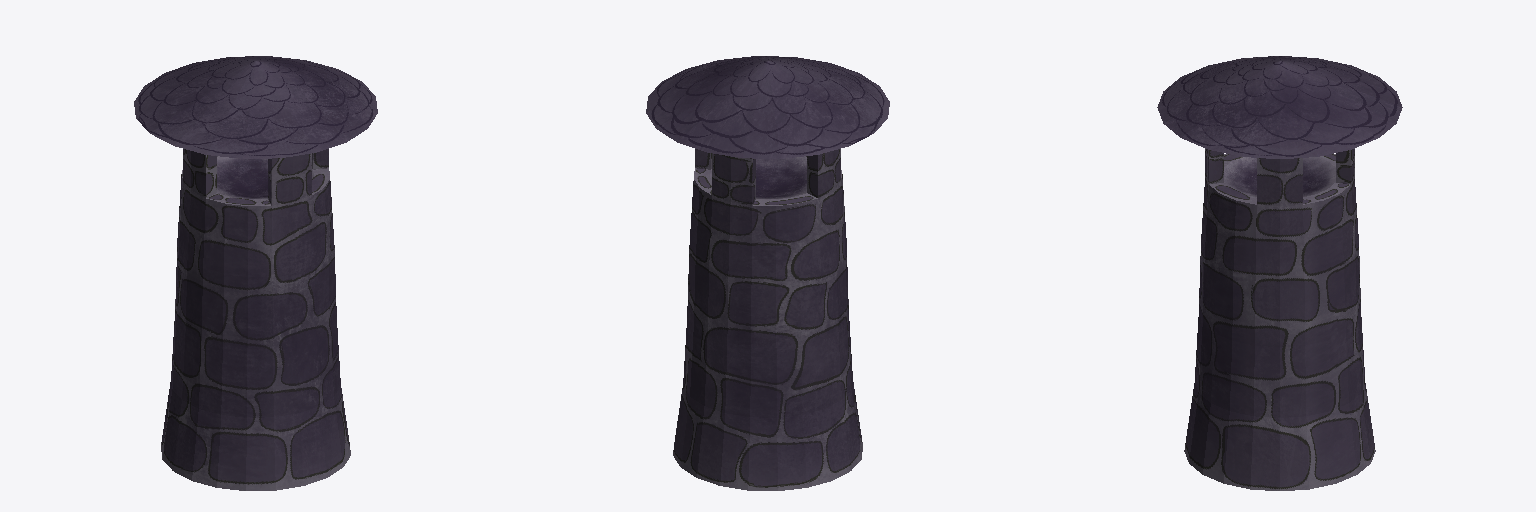
3 renders of one model, left to right at view 1: azimuth 30°, elevation 25°; view 2: azimuth 150°, elevation 25°; view 3: azimuth 270°, elevation 25°, orthographic.
Visible parts, largest first — view 1: ManaLampHat_initialShadingGroup_1, ManaLampHat_initialShadingGroup; view 2: ManaLampHat_initialShadingGroup_1, ManaLampHat_initialShadingGroup; view 3: ManaLampHat_initialShadingGroup_1, ManaLampHat_initialShadingGroup.
Part boxes in pixels (x1,y1,x2,y2): ManaLampHat_initialShadingGroup_1: (161, 149, 350, 490); ManaLampHat_initialShadingGroup: (134, 56, 377, 158); ManaLampHat_initialShadingGroup_1: (673, 149, 862, 490); ManaLampHat_initialShadingGroup: (646, 56, 889, 158); ManaLampHat_initialShadingGroup_1: (1184, 149, 1375, 490); ManaLampHat_initialShadingGroup: (1157, 56, 1402, 158).
Size of the model in its own units: 2.8 by 4.91 by 2.8.
Materials: 1 (1 with a texture image).